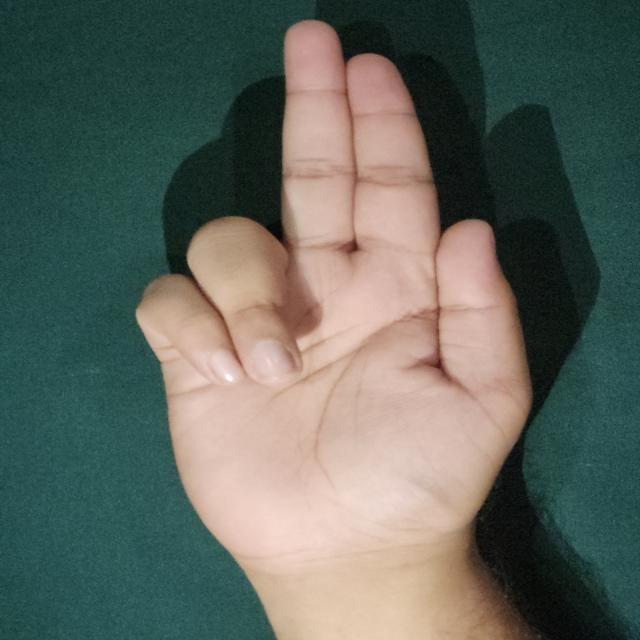ٹ: (112, 14, 536, 616)
